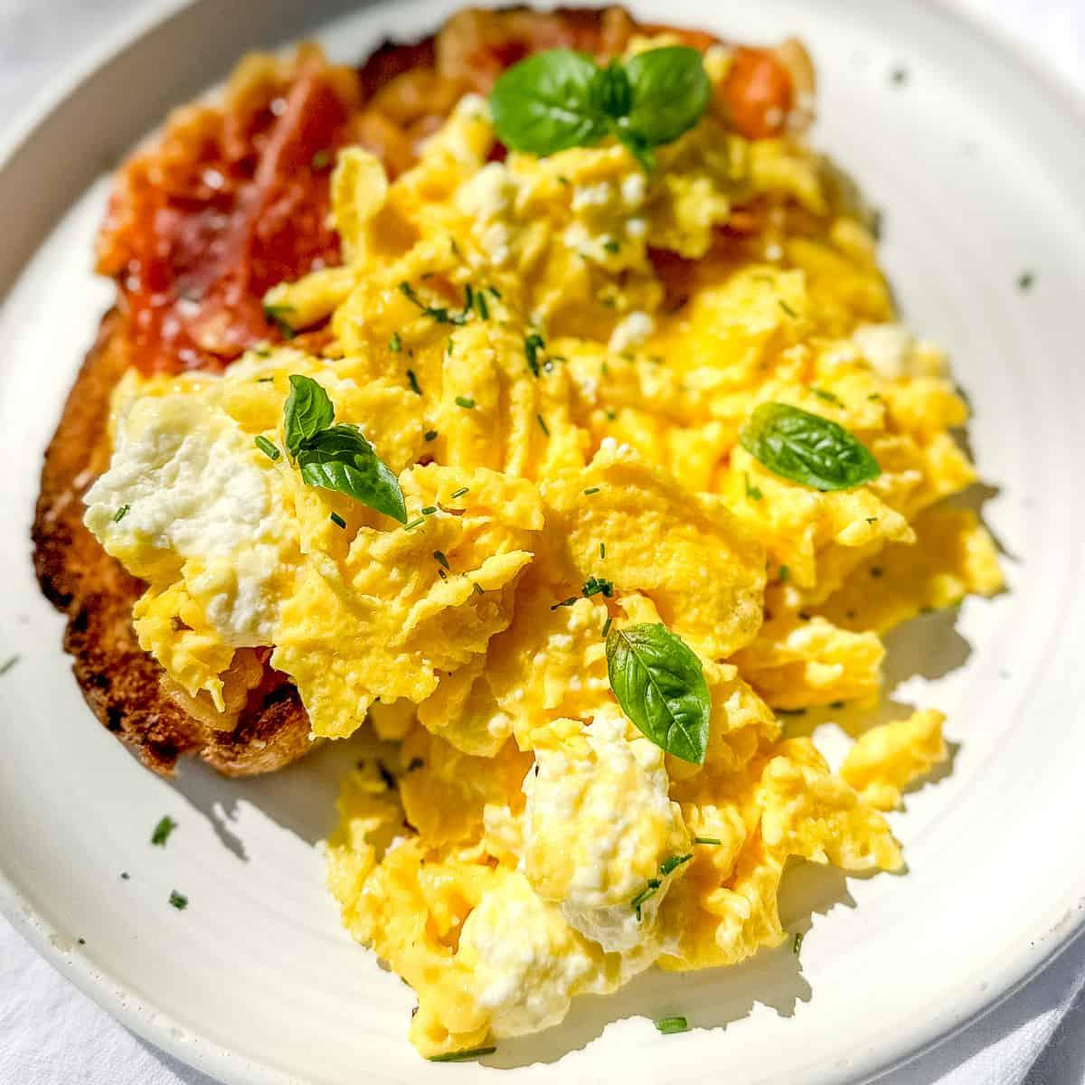eggs: (263, 188, 878, 900)
